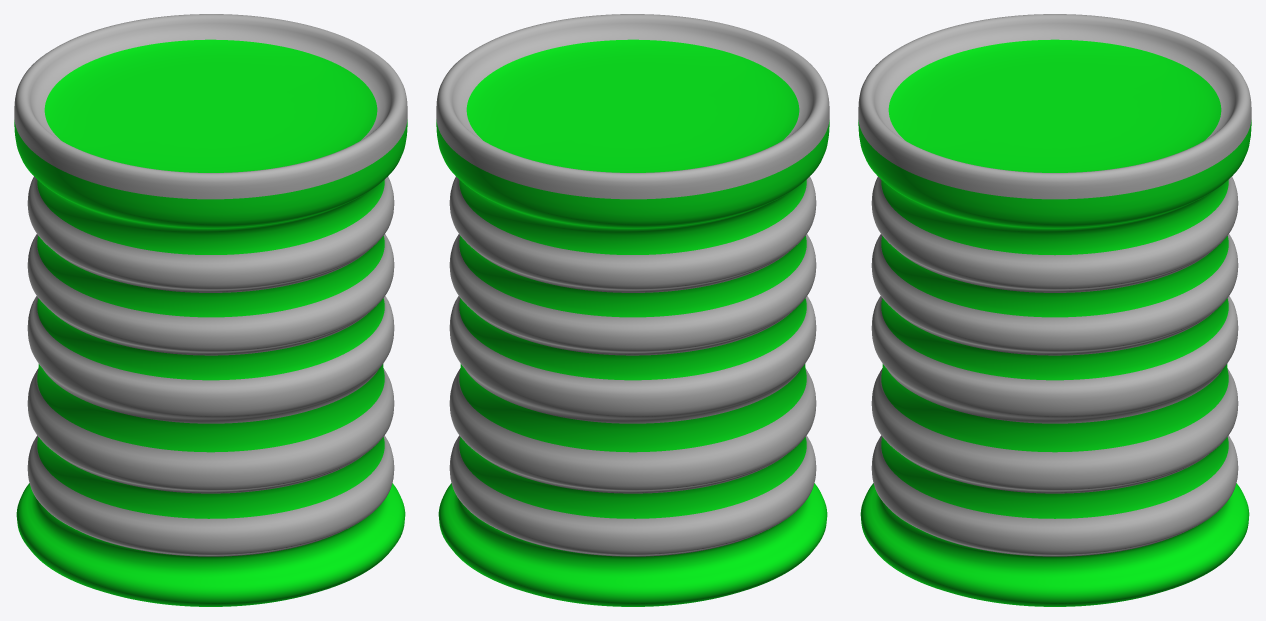
File: Deco_TonelGreen.fbx
The picture shows the model from 3 angles, left to right: view 1: azimuth 30°, elevation 25°; view 2: azimuth 150°, elevation 25°; view 3: azimuth 270°, elevation 25°; orthographic projection.
Visible parts, largest first — view 1: Circle; view 2: Circle; view 3: Circle.
Part boxes in pixels (bbox=[...]): Circle: bbox=[14, 14, 407, 606]; Circle: bbox=[436, 14, 829, 606]; Circle: bbox=[858, 14, 1251, 606].
Size of the model in its own units: 99.58 by 99.58 by 123.
